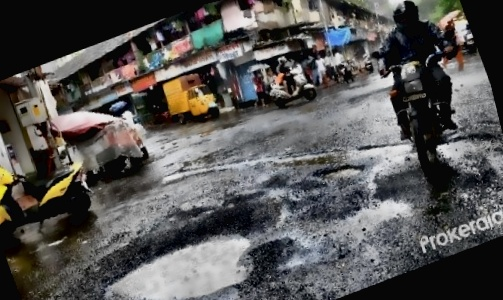pothole: (85, 197, 275, 300), (314, 153, 367, 188)
